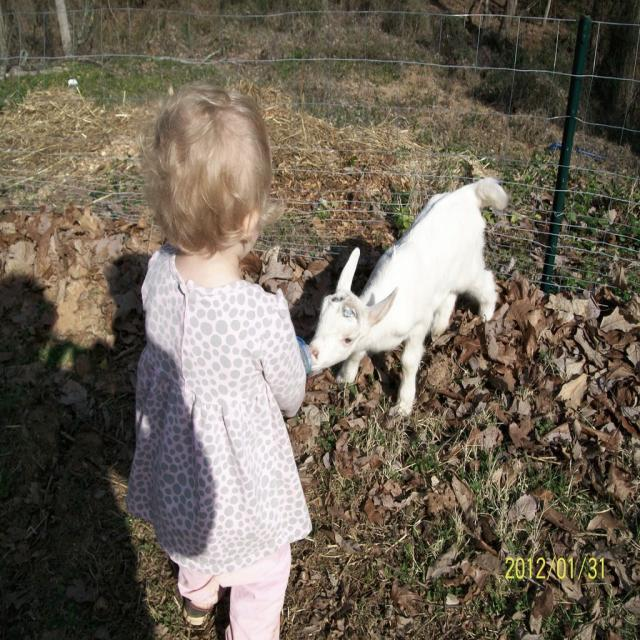Goat: (306, 175, 509, 419)
